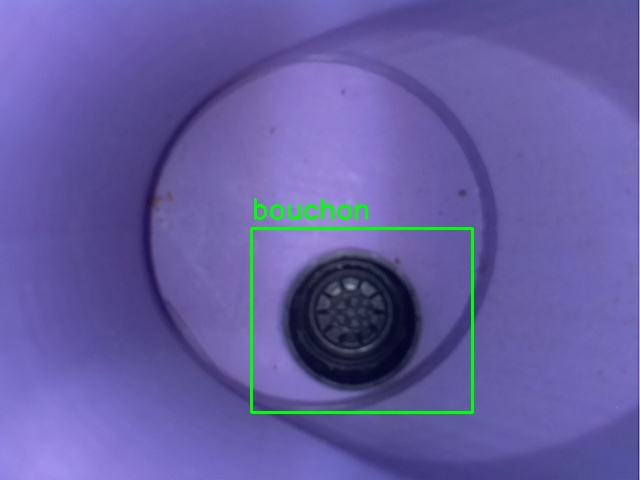bouchon: (251, 228, 472, 412)
